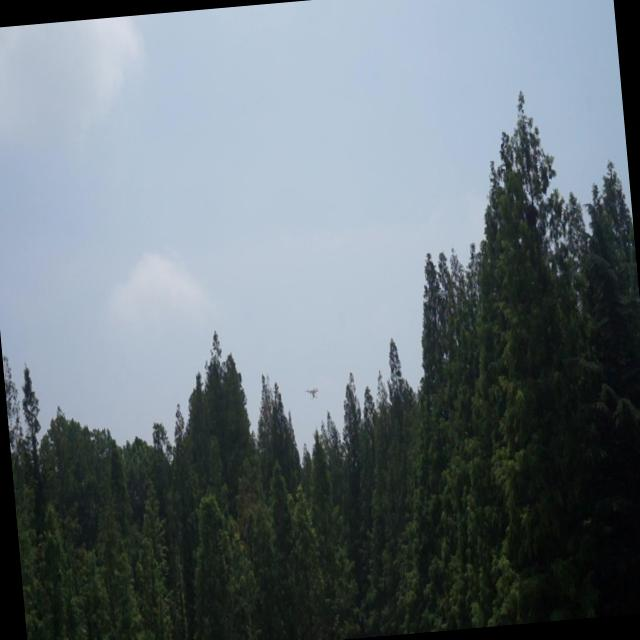drone: (302, 381, 324, 405)
